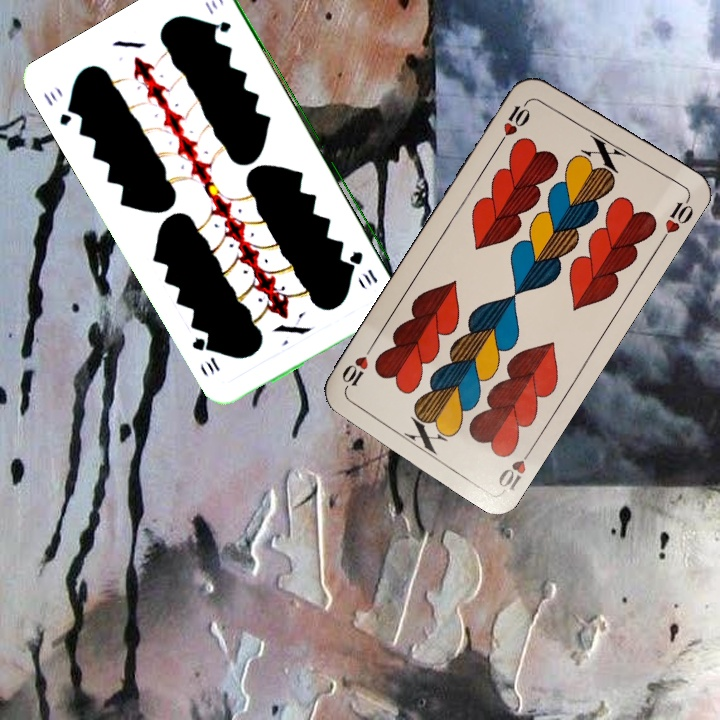G10: (39, 87, 80, 129), (347, 247, 381, 287)
H10: (494, 441, 538, 494), (495, 95, 534, 147)
